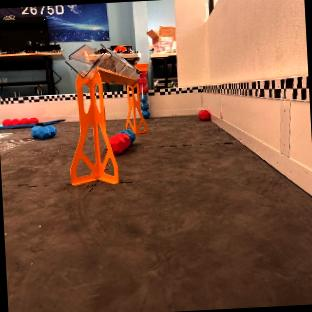V5_BLUE: (32, 125, 56, 138), (123, 128, 134, 141), (142, 107, 149, 118)
V5_RED: (109, 132, 129, 154), (3, 117, 37, 125), (198, 110, 210, 120)
